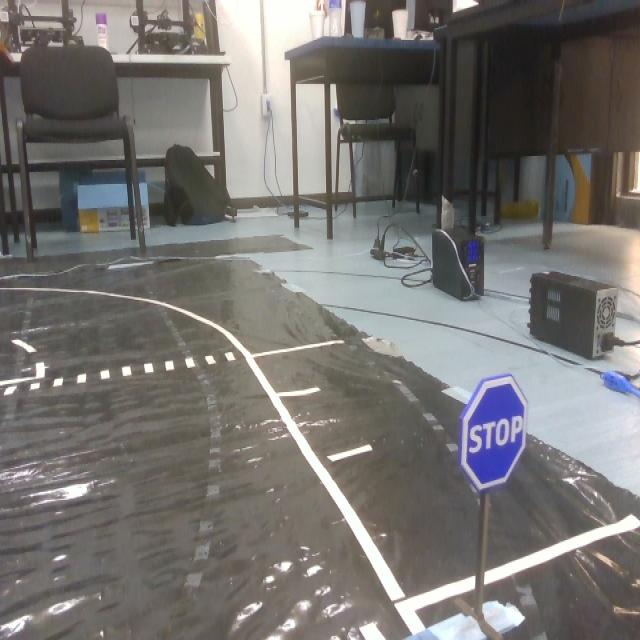no_entry: (452, 378, 530, 494)
